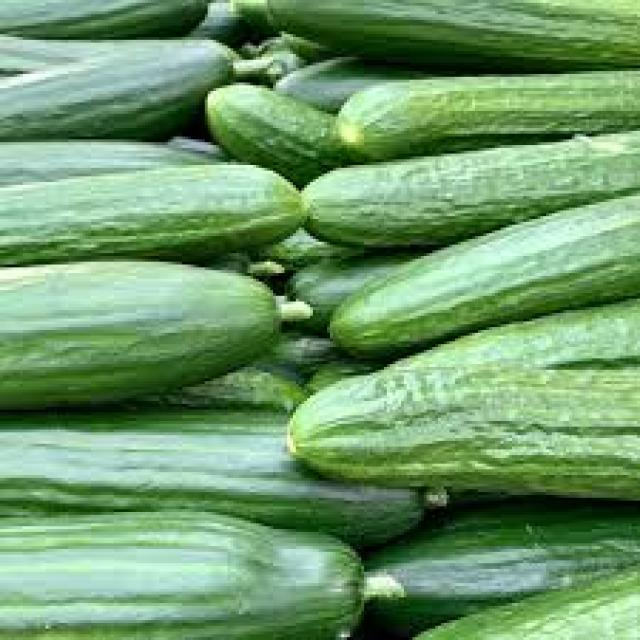Pickle: (290, 299, 640, 499), (0, 412, 422, 544), (331, 196, 640, 357), (0, 262, 274, 409), (302, 132, 640, 247), (368, 504, 640, 634), (0, 164, 304, 264), (241, 0, 640, 71), (336, 71, 640, 159), (0, 36, 231, 140), (208, 86, 350, 186)
